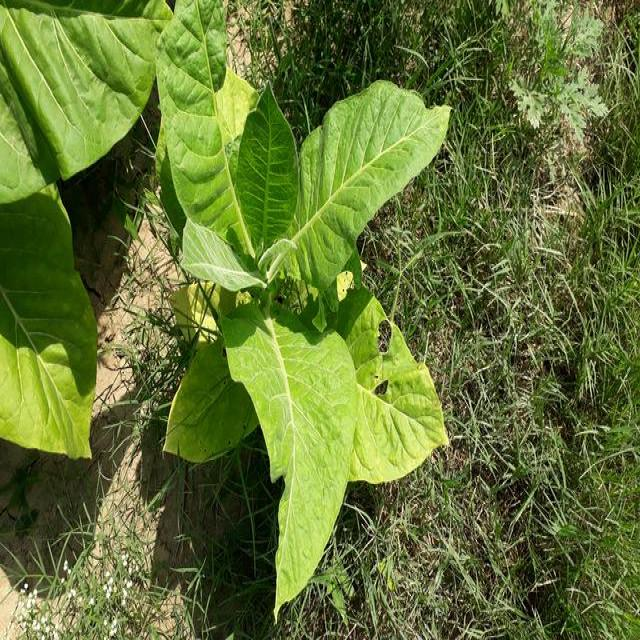crop: (147, 16, 464, 592), (2, 4, 129, 450)
